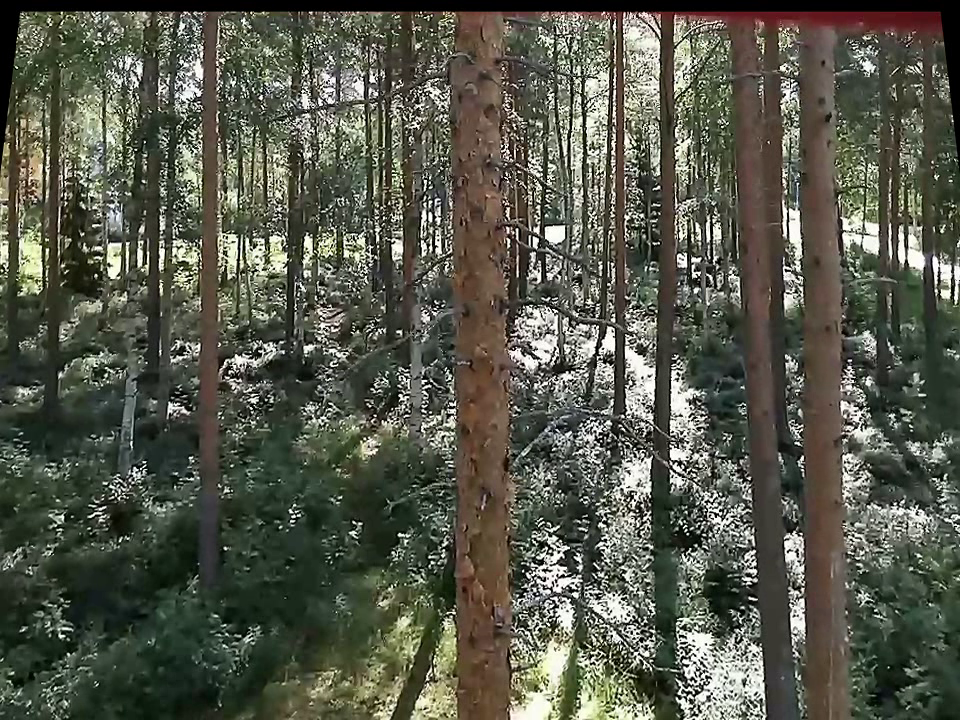branch: (510, 401, 683, 479), (261, 60, 444, 130), (514, 285, 639, 340), (503, 42, 577, 87)
trunk: (439, 7, 527, 712), (717, 9, 800, 707), (784, 20, 866, 706), (191, 12, 238, 585), (647, 7, 688, 536), (601, 15, 640, 423), (106, 165, 153, 469), (38, 38, 69, 433)
